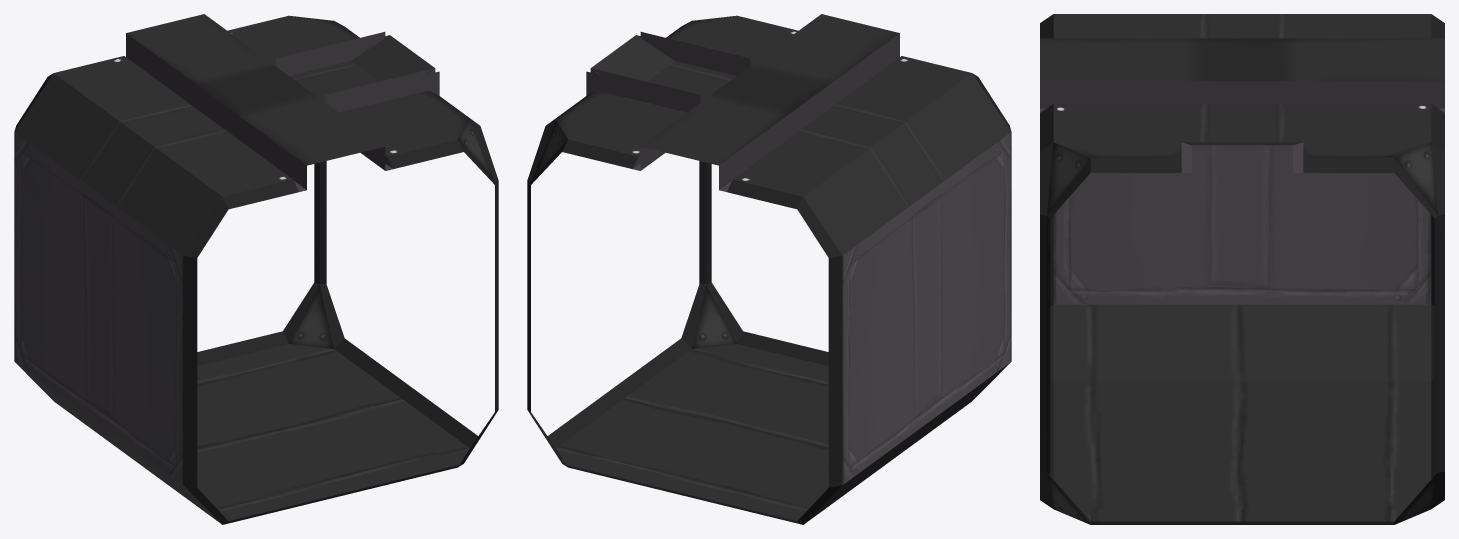
The model's file is pathway02.fbx.
3 views of the same model, side by side, from view 1: azimuth 30°, elevation 25°; view 2: azimuth 150°, elevation 25°; view 3: azimuth 270°, elevation 25° (orthographic). The views are drawn at different scales.
Parts seen in each view (by area): view 1: pathway02; view 2: pathway02; view 3: pathway02.
Part boxes in pixels (box(x1,y1,x2,y2)): pathway02: box(14, 14, 498, 524); pathway02: box(527, 14, 1011, 524); pathway02: box(1040, 14, 1444, 524).
Bounding box in the file's own units: 2 × 2.1 × 2.
1 material, 1 textured.
